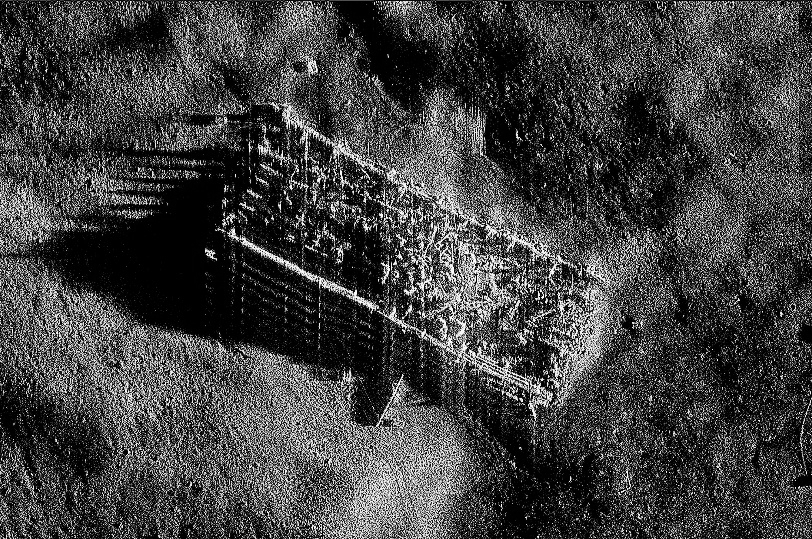ship: (196, 101, 608, 410)
